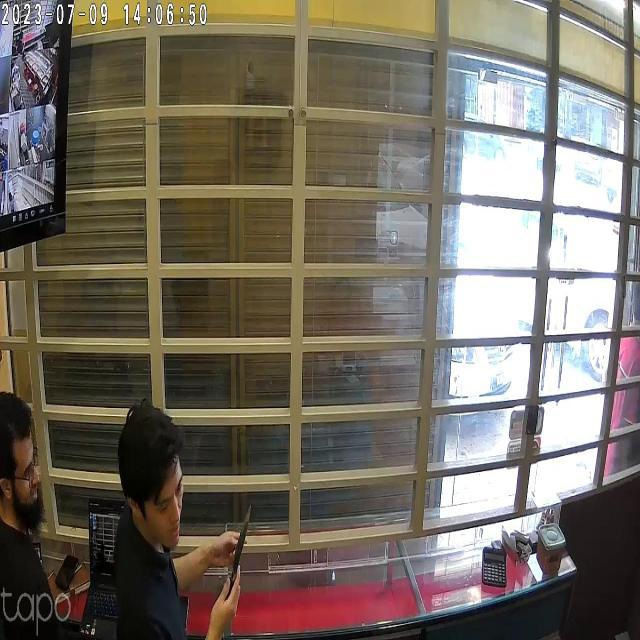Knife: (216, 500, 270, 595)
